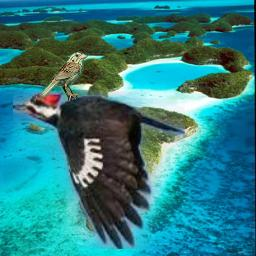Sparrow: (38, 51, 88, 101)
Woodpecker: (13, 91, 185, 249)
